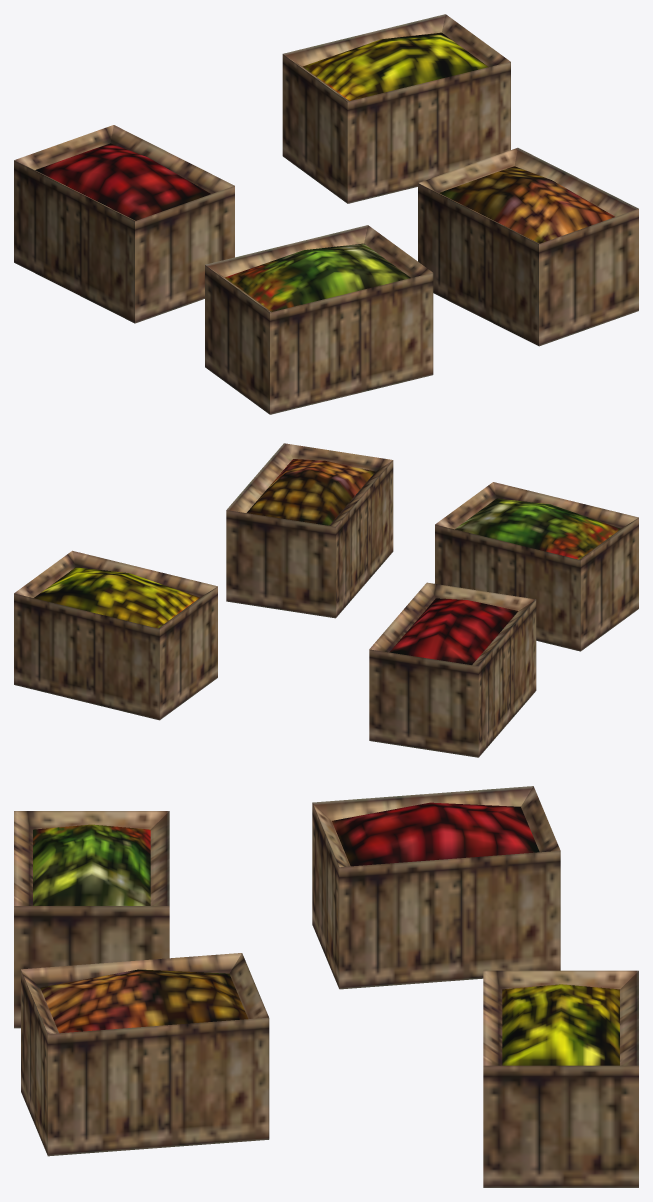
Rendered from produce_bins_a.glb.
3 renders of one model, top to bottom at view 1: azimuth 30°, elevation 25°; view 2: azimuth 150°, elevation 25°; view 3: azimuth 270°, elevation 25°, orthographic. The views are drawn at different scales.
Parts seen in each view (by area): view 1: Object25; view 2: Object25; view 3: Object25.
Part boxes in pixels (box(x1,y1,x2,y2)): Object25: box(14, 14, 638, 414); Object25: box(14, 443, 638, 757); Object25: box(14, 786, 638, 1187).
Bounding box in the file's own units: 7.68 × 1.86 × 7.32.
1 material, 1 textured.
